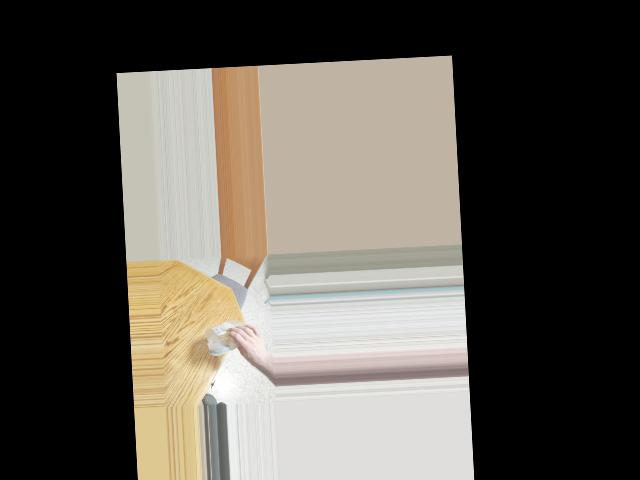cheese: (207, 318, 248, 353)
